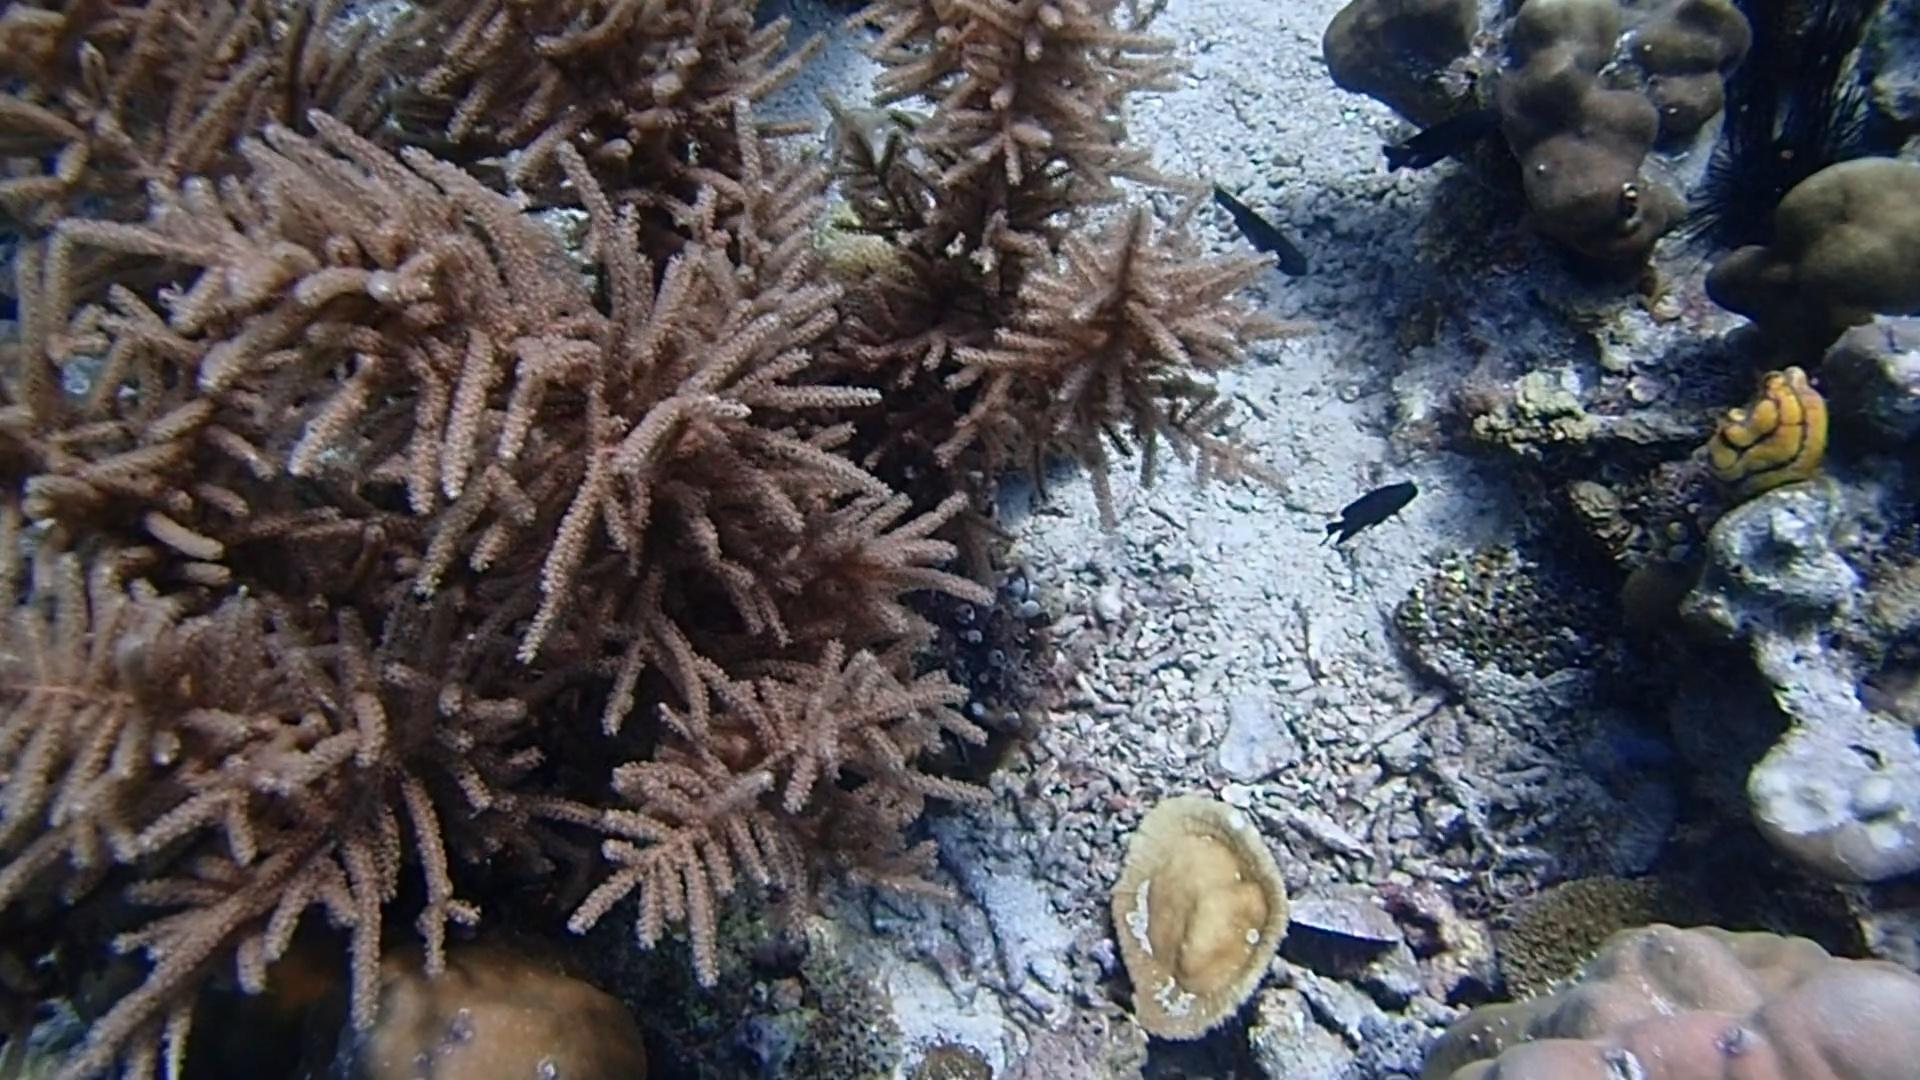Dark Fish: (1201, 173, 1313, 281), (1371, 104, 1502, 182), (1319, 481, 1422, 546)
